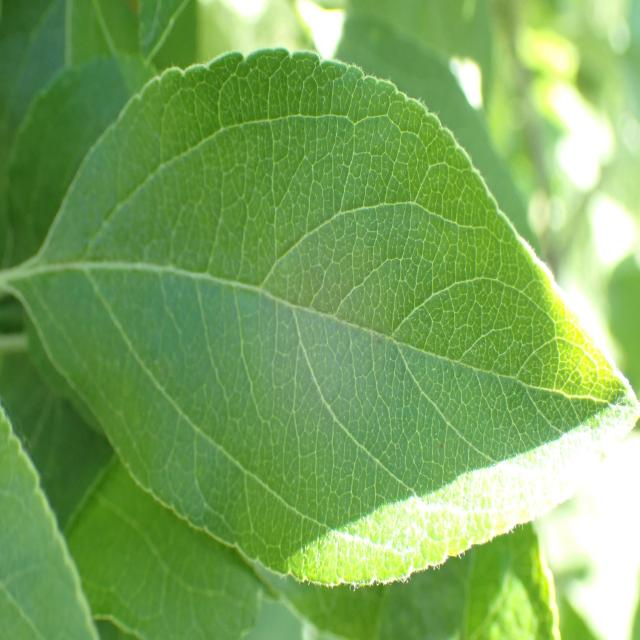healthy: (19, 47, 638, 586), (64, 453, 265, 640), (283, 520, 560, 640), (0, 402, 102, 640)
